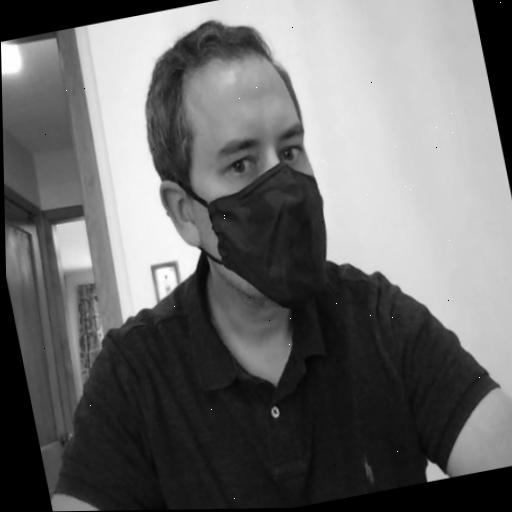mask: (125, 3, 345, 333)
